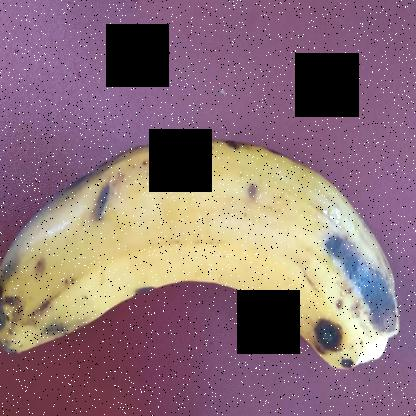ripe: (0, 126, 414, 415)
